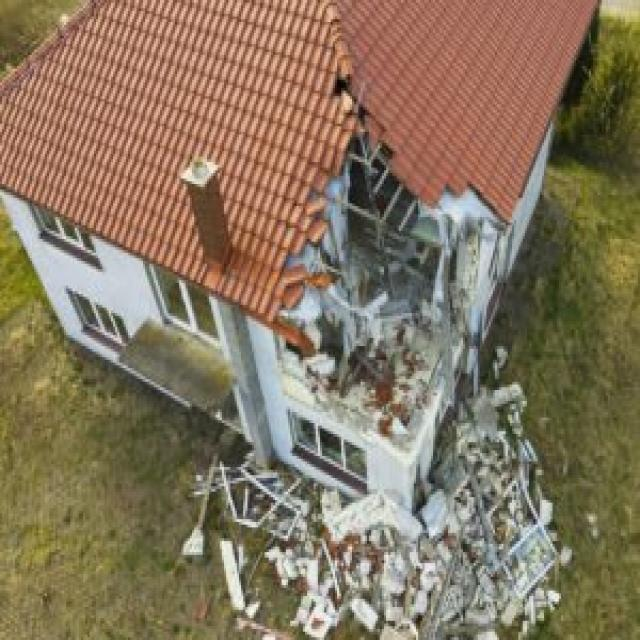damaged_roof: (270, 68, 512, 373)
